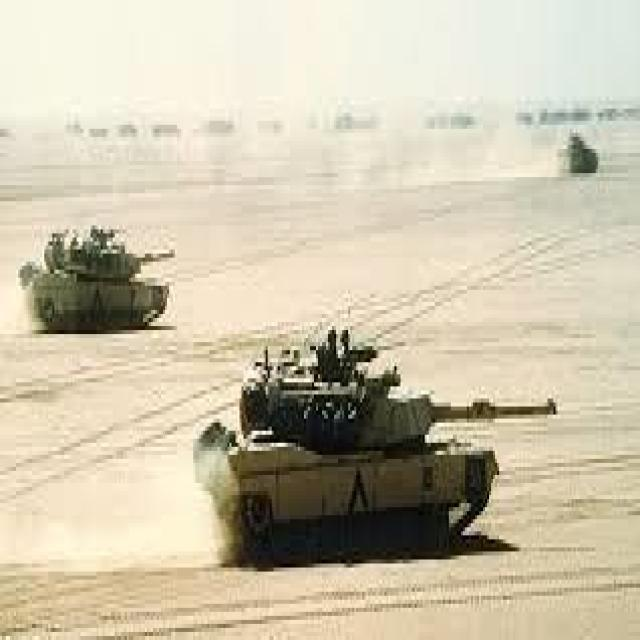Tanks: (183, 306, 566, 616), (13, 155, 184, 409)
